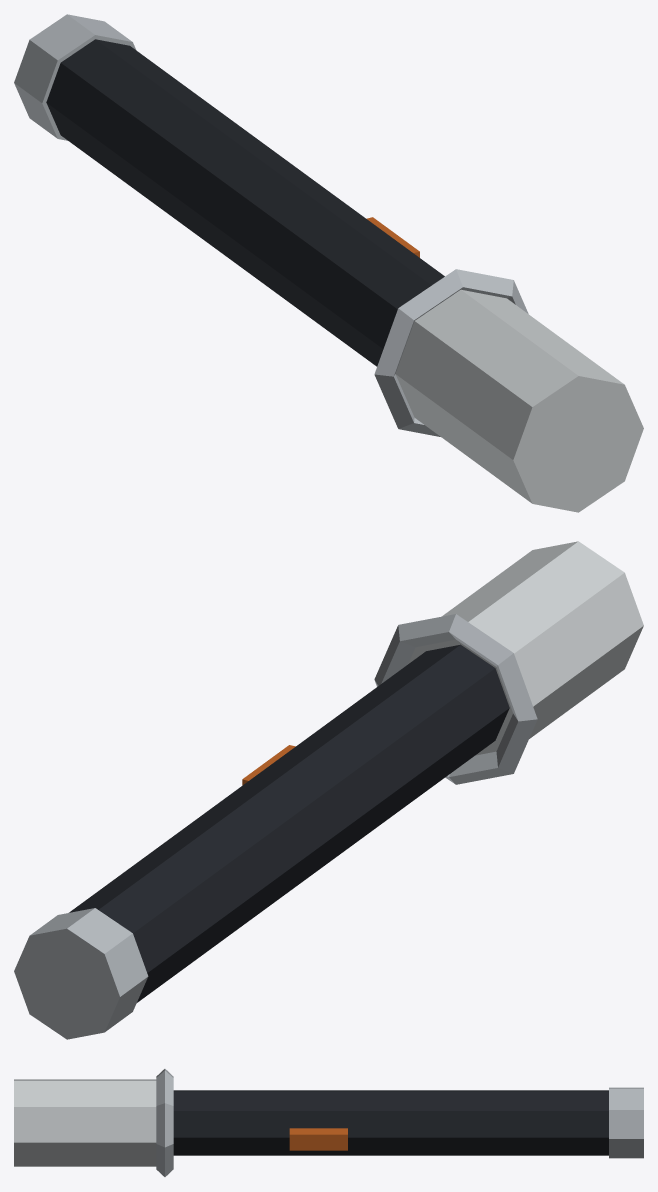
The model's file is glowrod.glb.
3 views of the same model, one above another, from view 1: azimuth 30°, elevation 25°; view 2: azimuth 150°, elevation 25°; view 3: azimuth 270°, elevation 25° (orthographic). The views are drawn at different scales.
Visible parts, largest first — view 1: m; view 2: m; view 3: m.
Part boxes in pixels (<box>): m: <box>14,14,643,512</box>; m: <box>14,541,643,1039</box>; m: <box>14,1069,643,1176</box>.
Bounding box in the file's own units: 0.0306 × 0.0306 × 0.1662.
